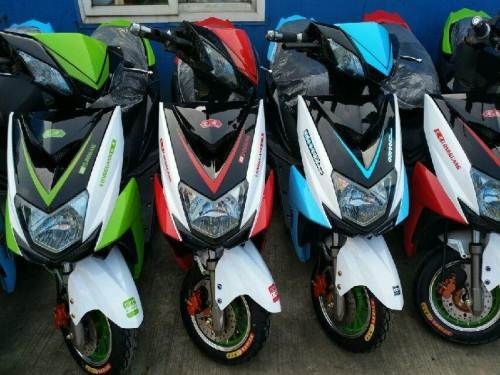non-vehicle: (131, 11, 287, 366), (4, 17, 159, 369), (262, 8, 410, 354), (381, 19, 497, 343)
